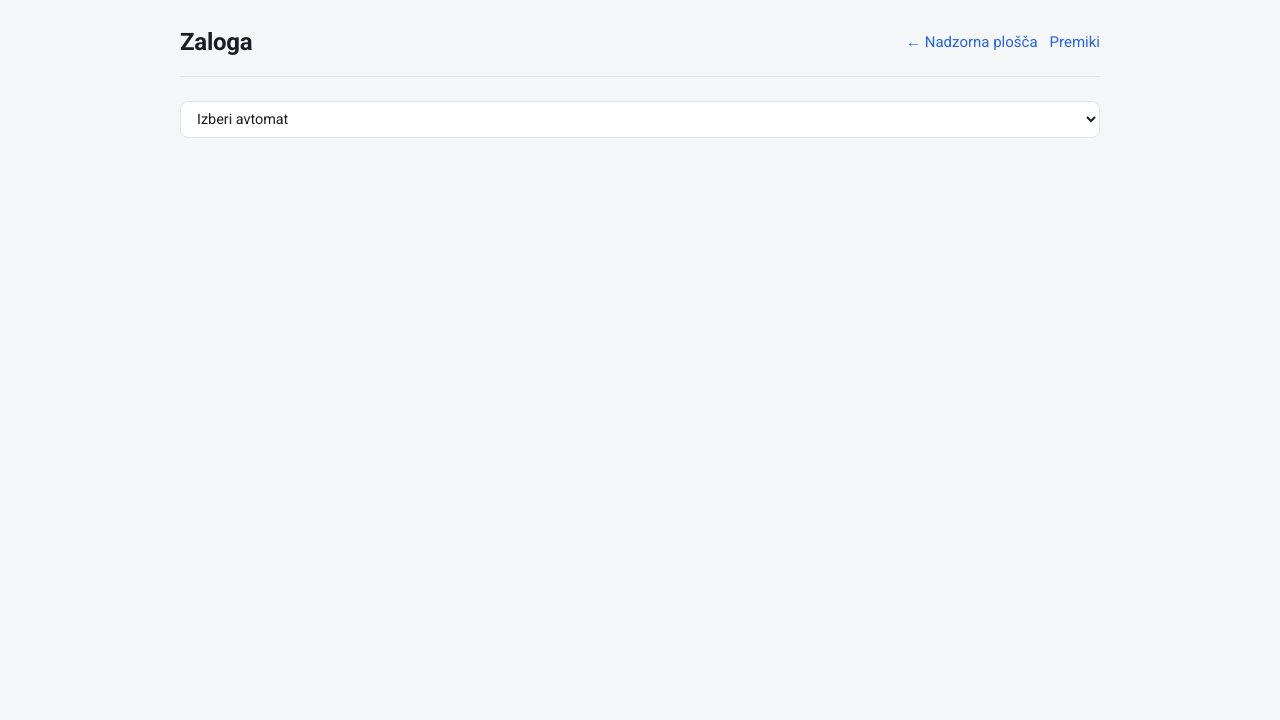
Test case: InventoryPage › refills with the same refillId when sent again (SLOT_HAS_OTHER_BATCH)
Later steps or results of the test are not shown.
Select "MB FERI" in the dropdown named "Avtomat" at (640,120), box [180,101,1100,138]
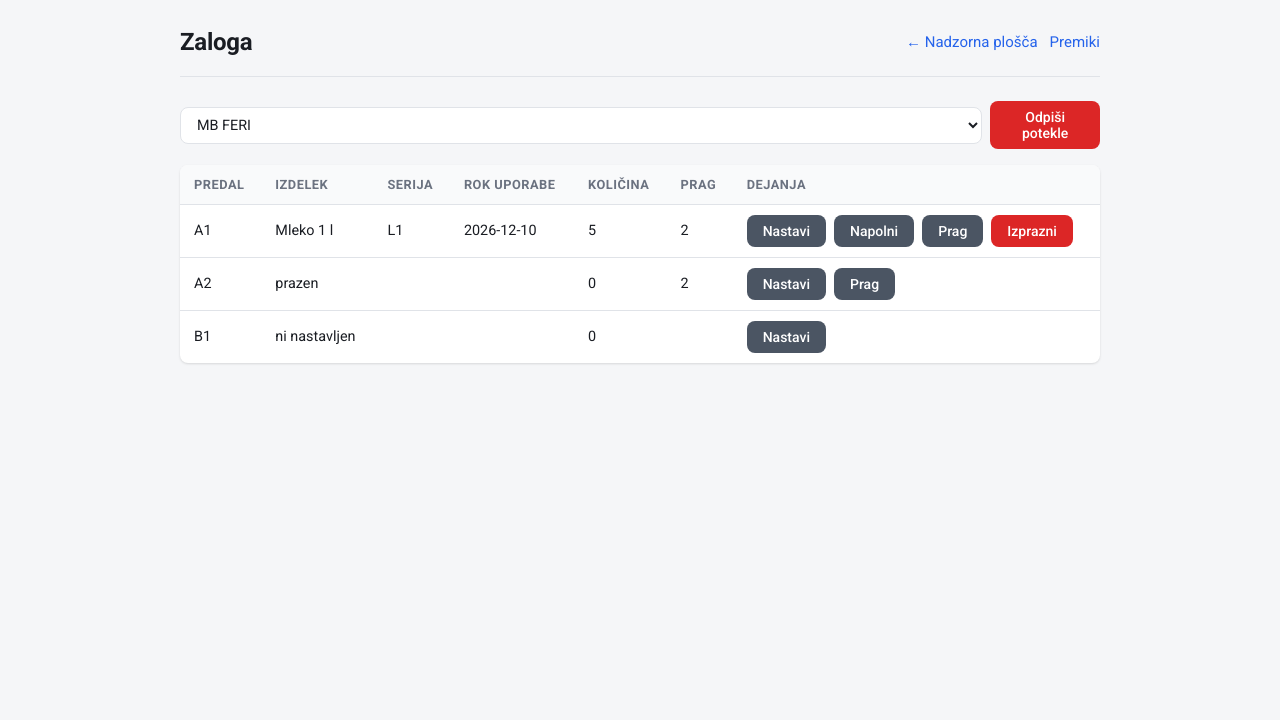
Expected: the text "Mleko 1 l" is shown, [261,205,373,258]
Click the button "Napolni" at (874,231), box [834,215,914,247]
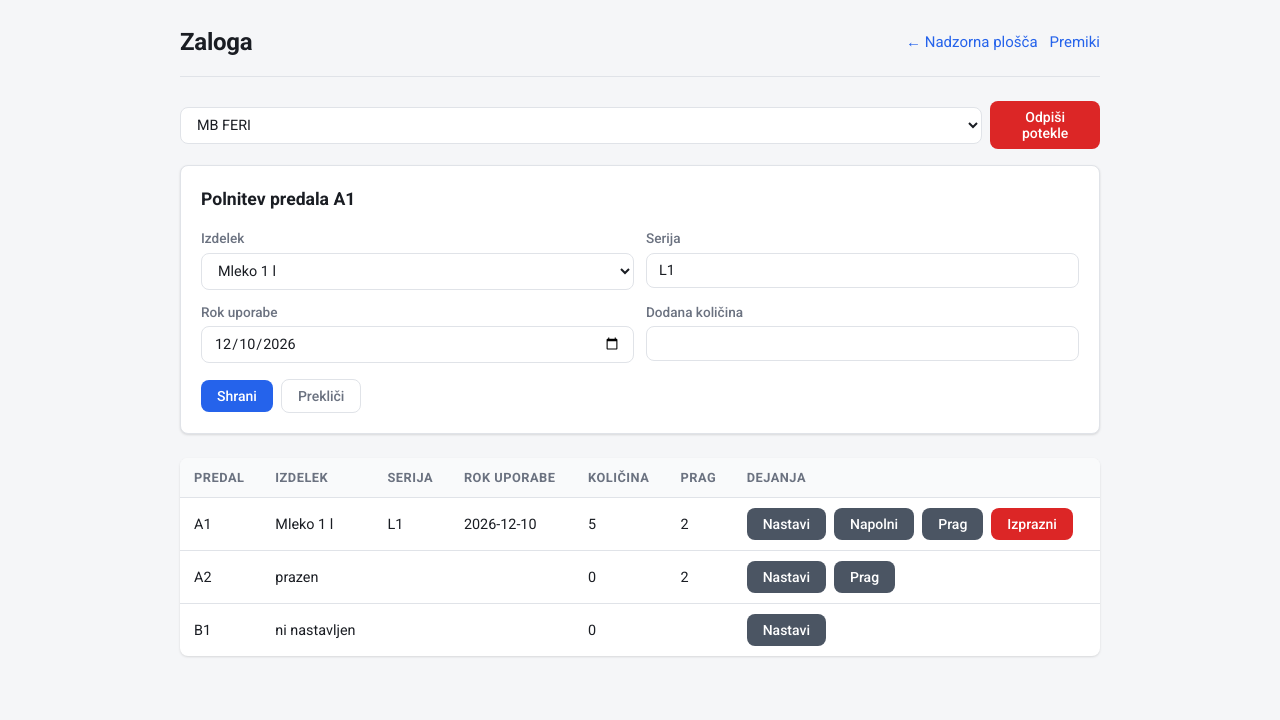
Expected: the field labelled "Serija" holds "L1", [646,253,1079,288]
Type "4" into the number field labelled "Dodana količina" at (862,344), box [646,326,1079,361]
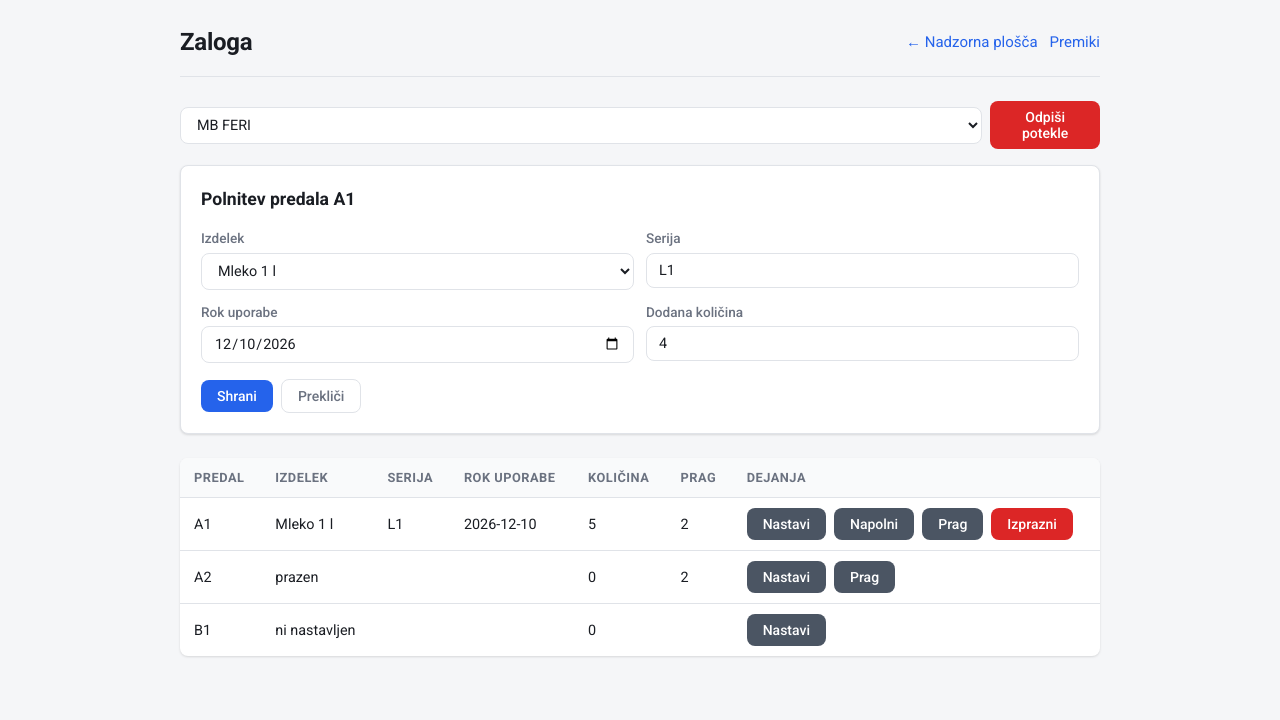
Click the button "Shrani" at (237,396), box [201,380,273,412]
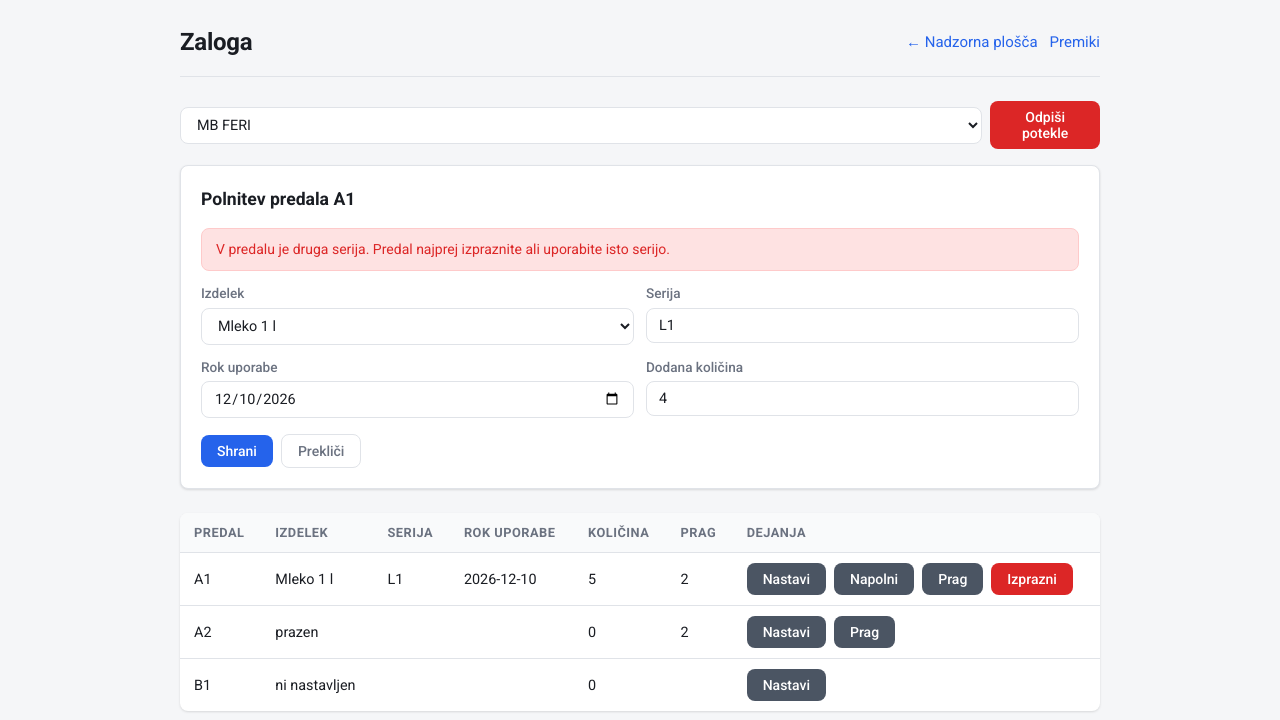
Expected: the text "V predalu je druga serija" is shown, [216,241,670,257]
